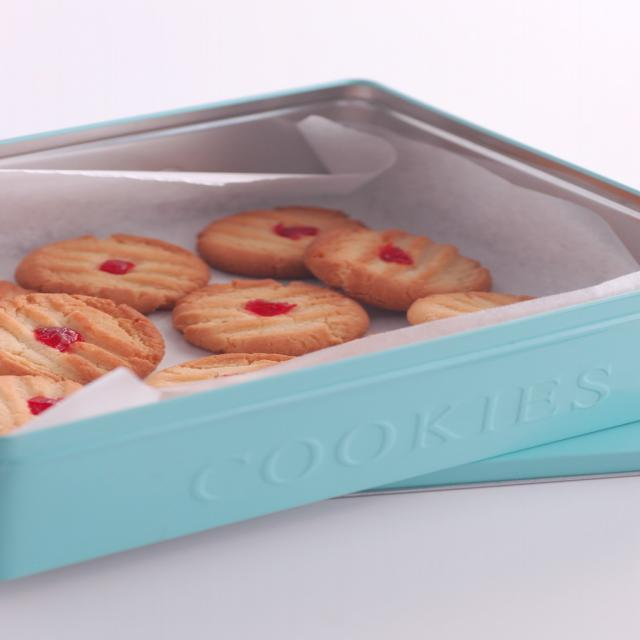Cookie: (0, 199, 538, 433)
